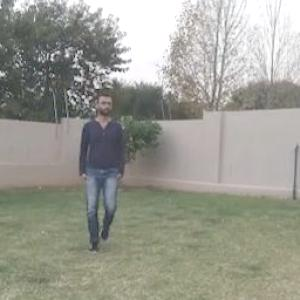follow: (82, 88, 123, 250)
